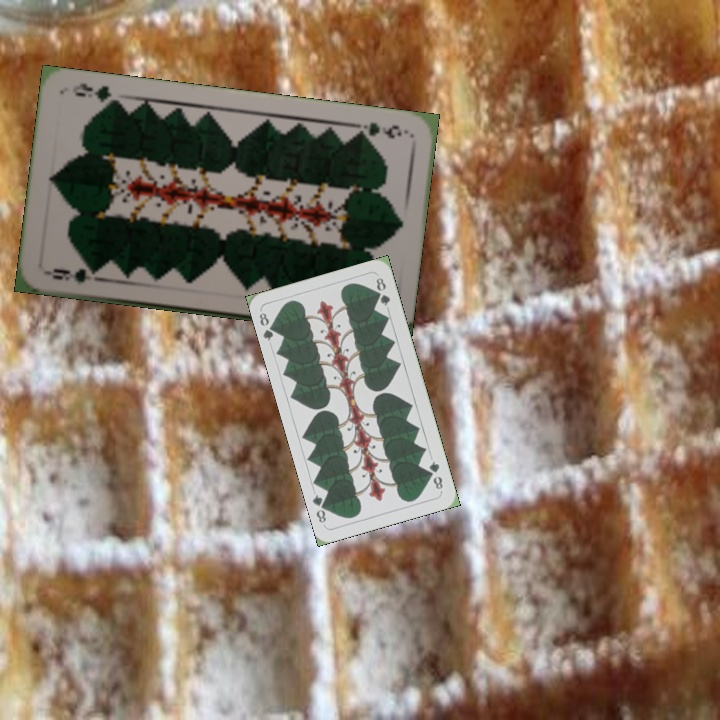G8: (255, 309, 280, 343), (425, 457, 445, 492)
G9: (351, 118, 411, 142), (41, 264, 101, 286)
